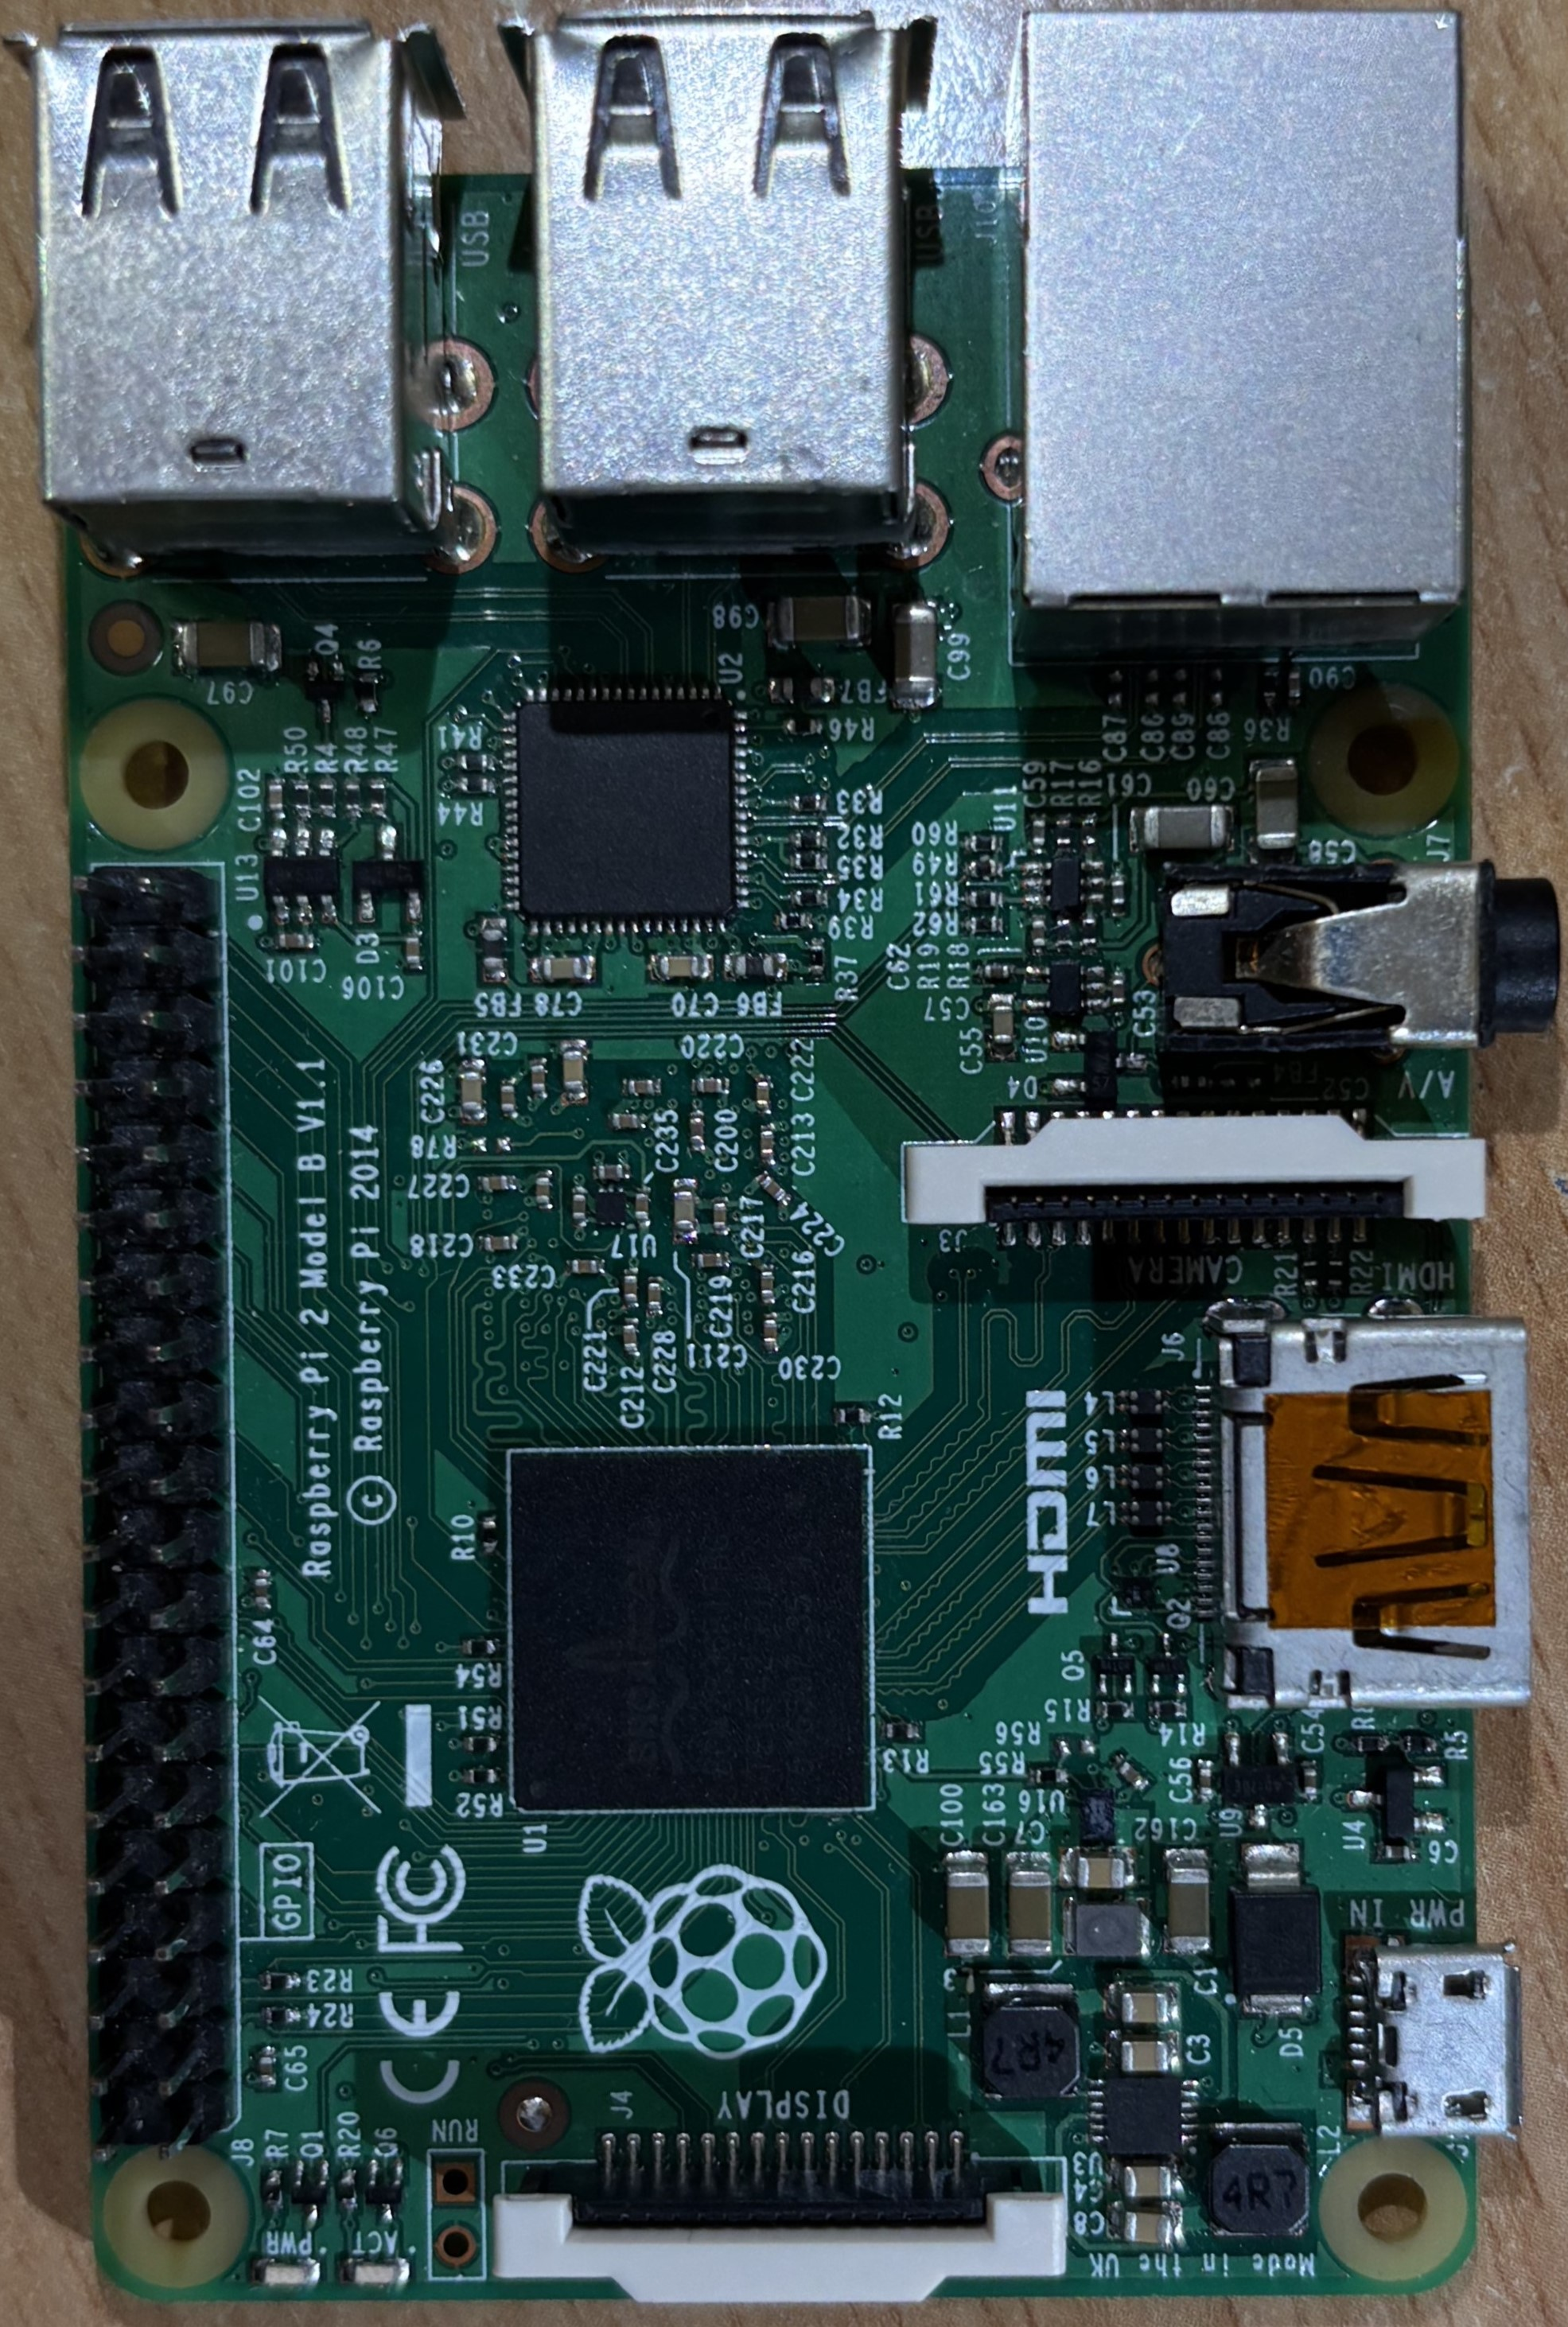Induktor: (976, 1989, 1085, 2098), (1209, 2126, 1307, 2240), (1067, 1902, 1144, 1956), (1122, 1499, 1172, 1526), (1118, 1463, 1169, 1487), (1118, 1389, 1167, 1414), (1120, 1428, 1169, 1452)
